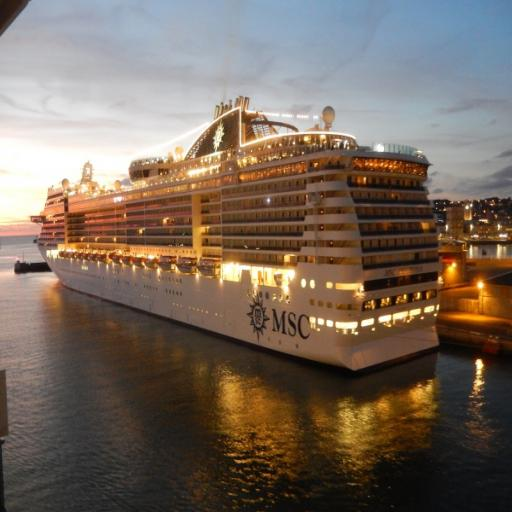cruises: (30, 94, 444, 379)
